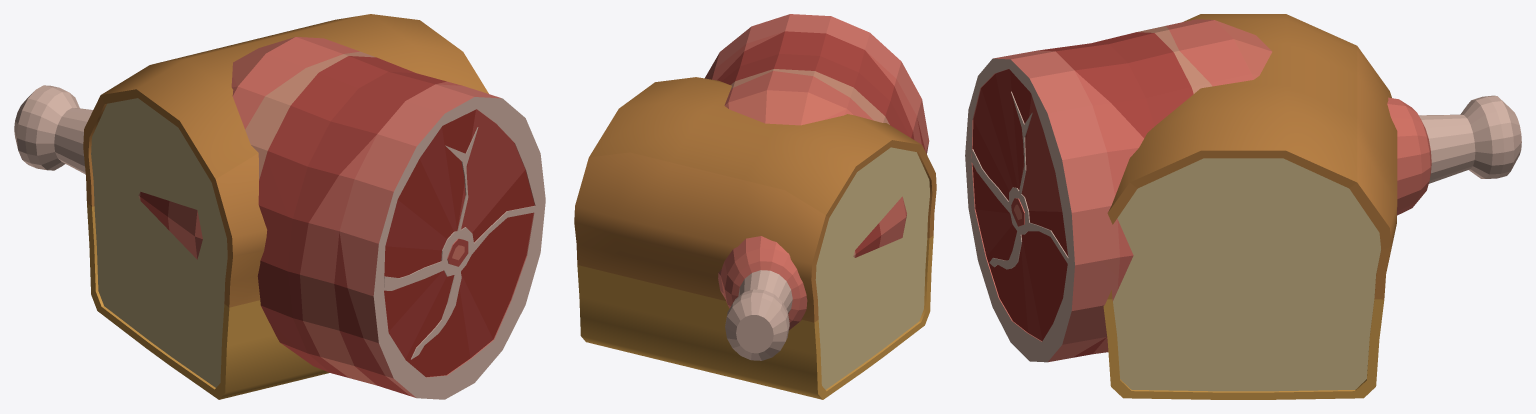
File: cibo.glb
3 views of the same model, side by side, from view 1: azimuth 30°, elevation 25°; view 2: azimuth 150°, elevation 25°; view 3: azimuth 270°, elevation 25° (orthographic). The views are drawn at different scales.
Visible parts, largest first — view 1: cibo_prosciutto, cibo_pane; view 2: cibo_pane, cibo_prosciutto; view 3: cibo_pane, cibo_prosciutto.
Boxes of the visible parts, box(x1,y1,x2,y2) form: cibo_prosciutto: box(14, 37, 545, 399); cibo_pane: box(83, 14, 488, 399); cibo_pane: box(574, 77, 936, 399); cibo_prosciutto: box(705, 14, 929, 360); cibo_pane: box(1103, 14, 1397, 399); cibo_prosciutto: box(965, 19, 1521, 362).
Bounding box in the file's own units: 0.2338 × 0.2025 × 0.3545.
